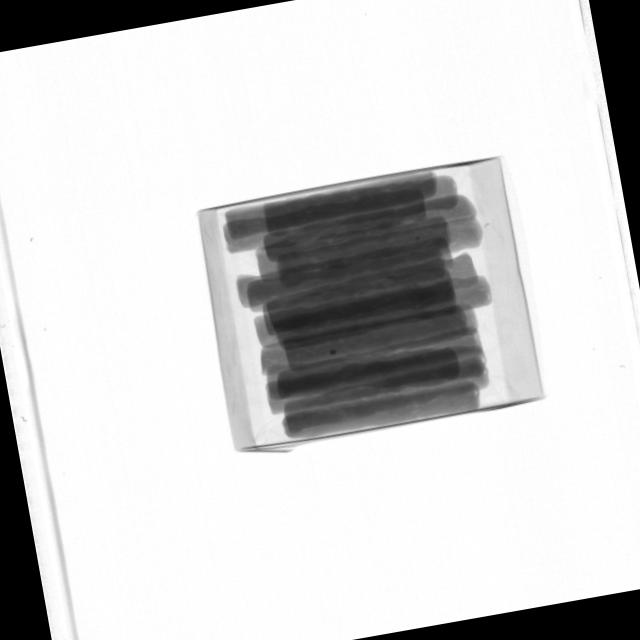ym: (329, 350, 336, 356), (415, 236, 420, 241)
